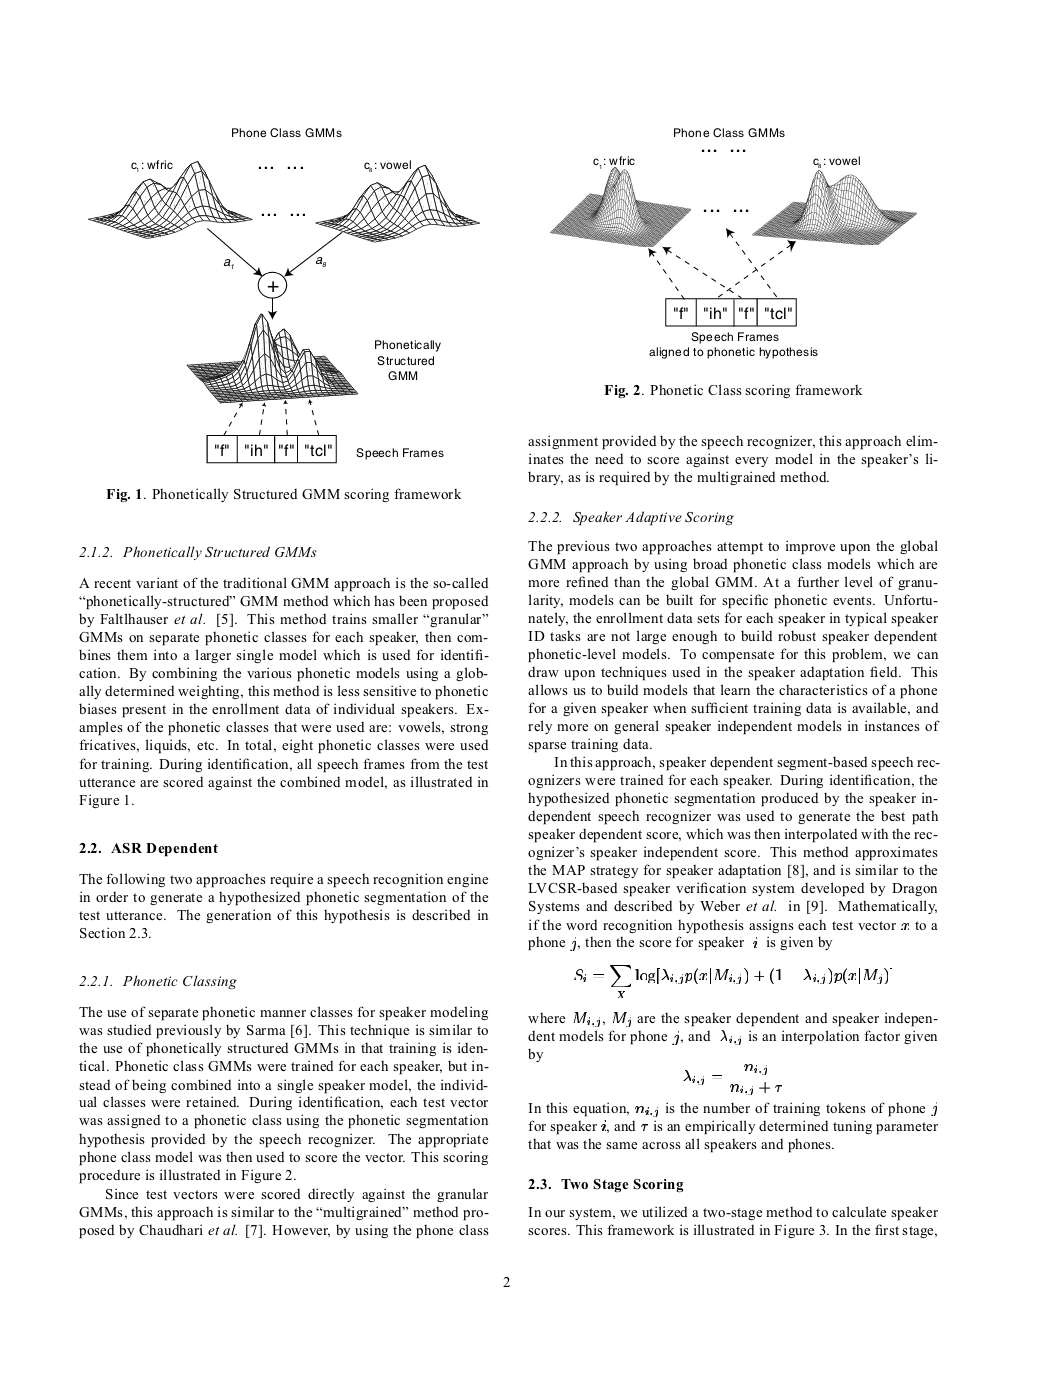figure: (88, 160, 479, 462), (549, 149, 916, 358)
formula: (574, 965, 890, 997), (683, 1064, 781, 1094)
